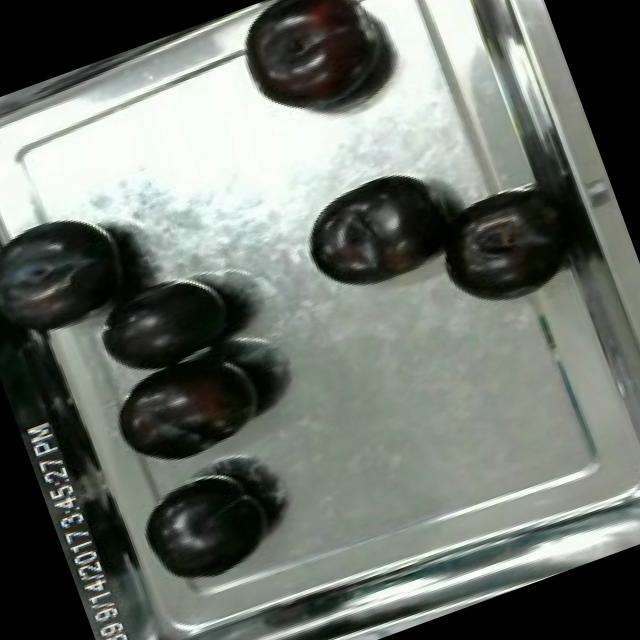Fruit: (92, 327, 286, 485), (287, 157, 467, 310), (0, 187, 154, 360), (78, 250, 255, 396), (126, 452, 292, 600), (226, 0, 405, 133), (424, 182, 572, 320)
